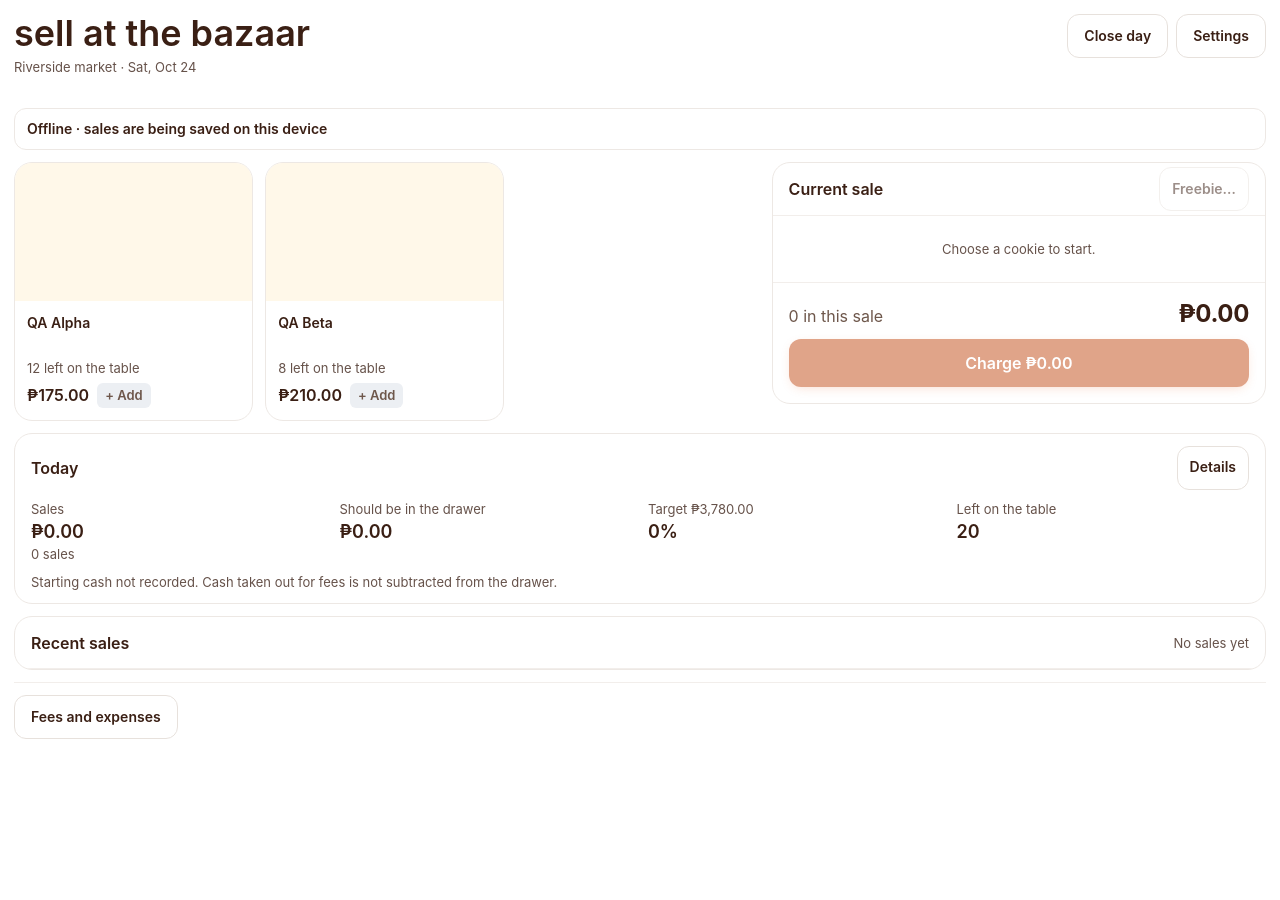
Scenario: HCB-004 a: the Bazaar plan and a failed or unread catalogue read › C. offline with the catalogue the phone kept: the day she is selling carries on, and its flavours are hers
This screenshot has width=1280, height=900.
Expected: the text "QA Alpha" is shown, [27, 314, 90, 331]
Expected: the text "QA Beta" is shown, [278, 314, 333, 331]
Click the button "QA Alpha 12 left on the table ₱175.00 + Add" at (134, 291), box [14, 162, 253, 420]
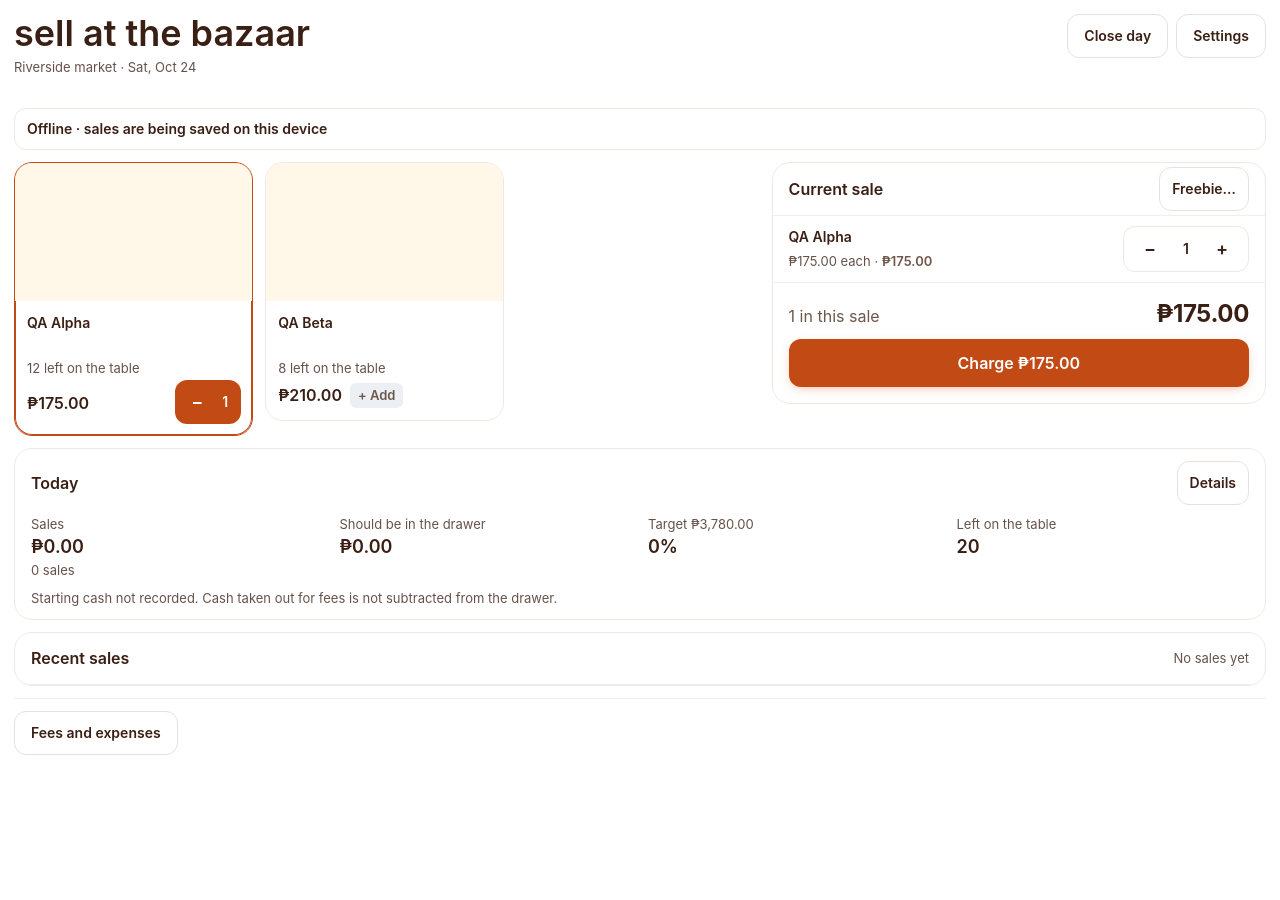
Expected: the button "Charge ₱175.00" is shown, [789, 339, 1249, 387]
